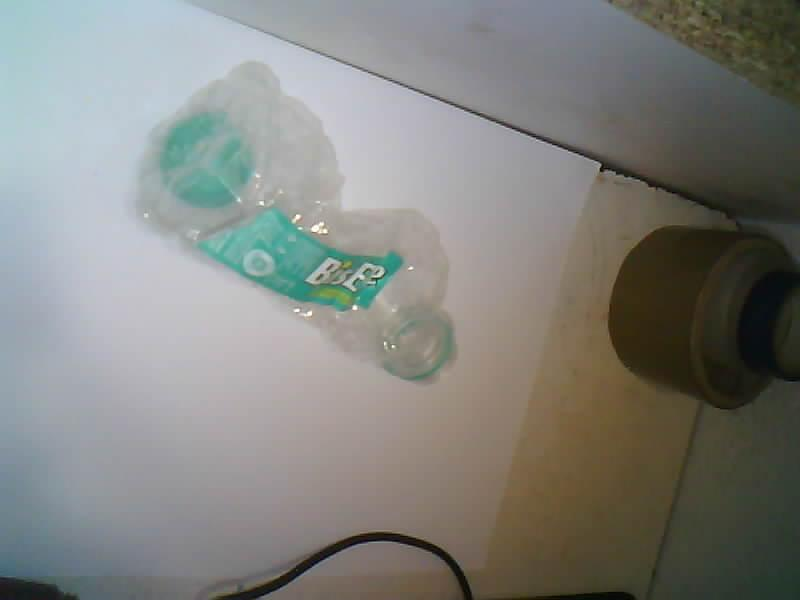non-biodegradable: (138, 62, 454, 380)
